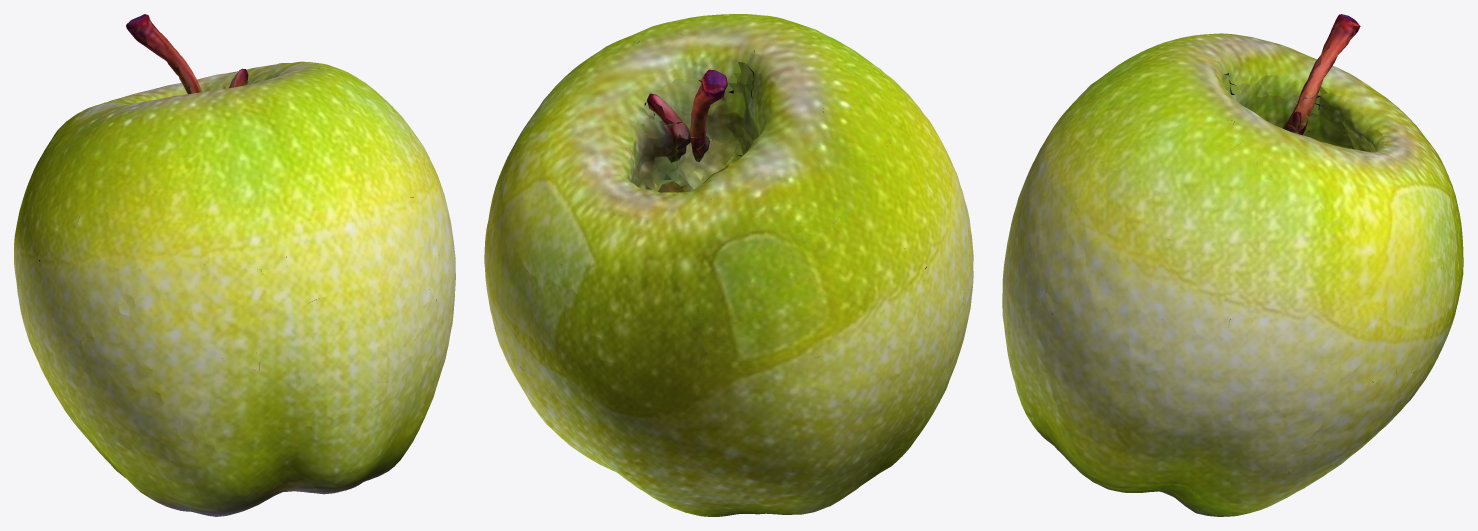
Rendered from SPAR3D_result_20250714_203917.glb.
The picture shows the model from 3 angles, left to right: view 1: azimuth 30°, elevation 25°; view 2: azimuth 150°, elevation 25°; view 3: azimuth 270°, elevation 25°; orthographic projection. The views are drawn at different scales.
Visible parts, largest first — view 1: world; view 2: world; view 3: world.
Boxes of the visible parts, left/top/right/bottom form: world: left=14, top=14, right=455, bottom=516; world: left=484, top=14, right=973, bottom=516; world: left=1002, top=14, right=1463, bottom=516.
Bounding box in the file's own units: 0.875 × 0.9588 × 0.9001.
Materials: 1 (1 with a texture image).
